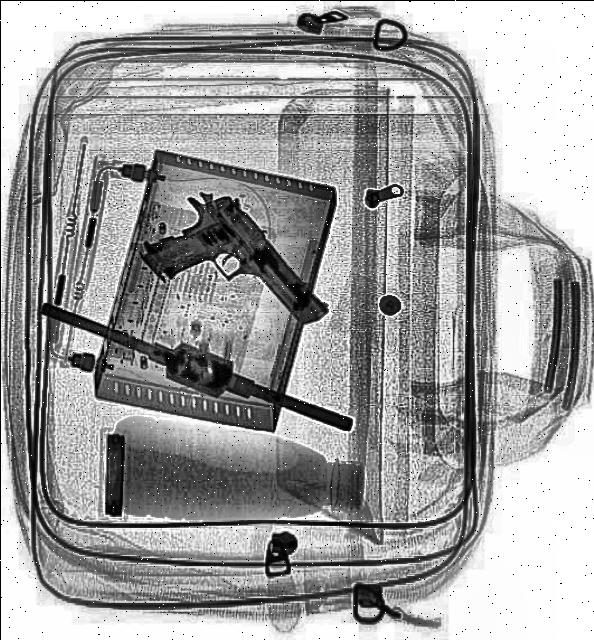Gun: (126, 174, 328, 380)
